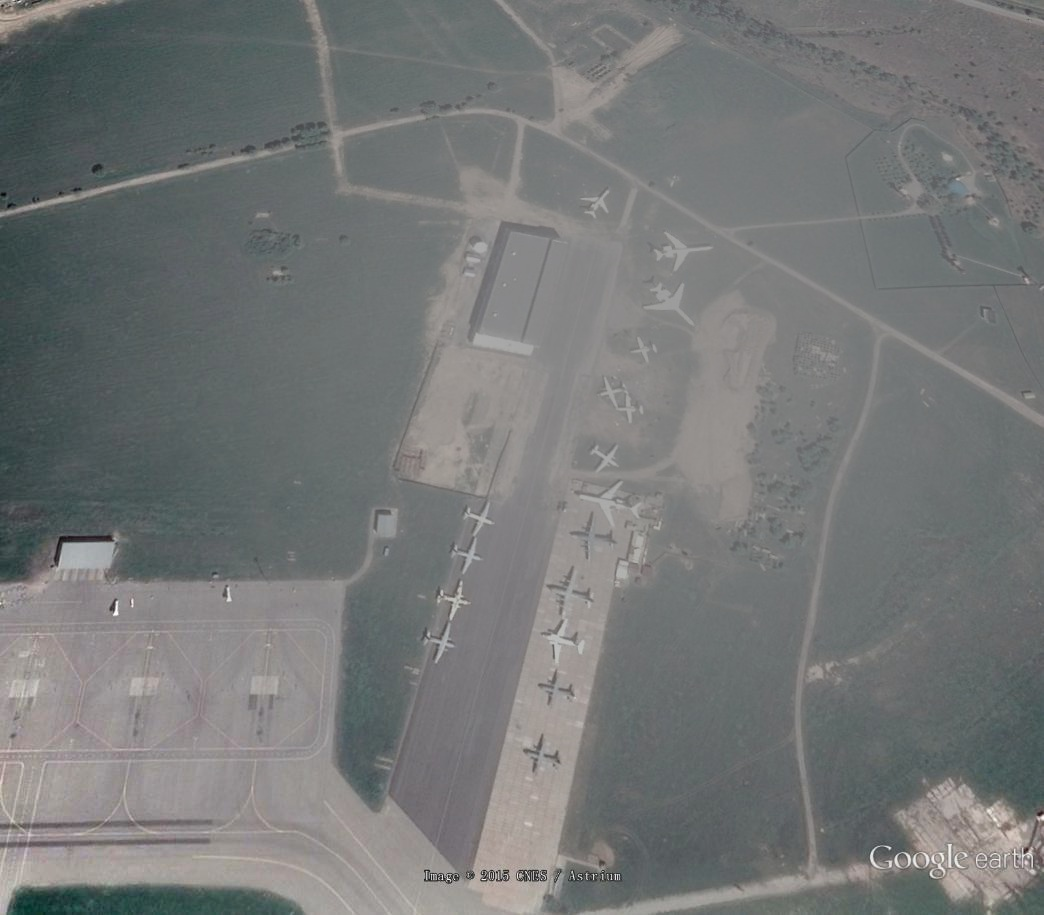aircraft: (576, 479, 645, 532), (649, 229, 717, 275), (545, 563, 598, 622), (640, 279, 700, 331), (569, 511, 618, 564), (539, 619, 589, 666), (522, 731, 565, 779), (433, 577, 476, 624), (537, 666, 579, 709), (419, 622, 459, 666), (448, 536, 483, 577), (461, 499, 496, 539), (596, 374, 629, 412), (578, 187, 613, 222), (626, 334, 661, 369), (613, 391, 646, 428), (587, 444, 624, 472)
